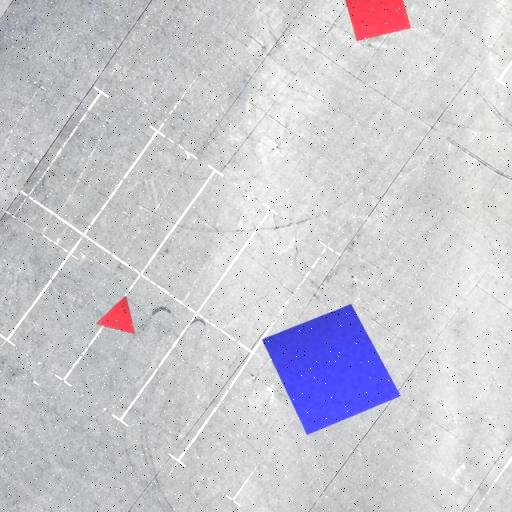BLUE_SQUARE: (262, 304, 400, 436)
RED_SQUARE: (342, 0, 412, 42)
